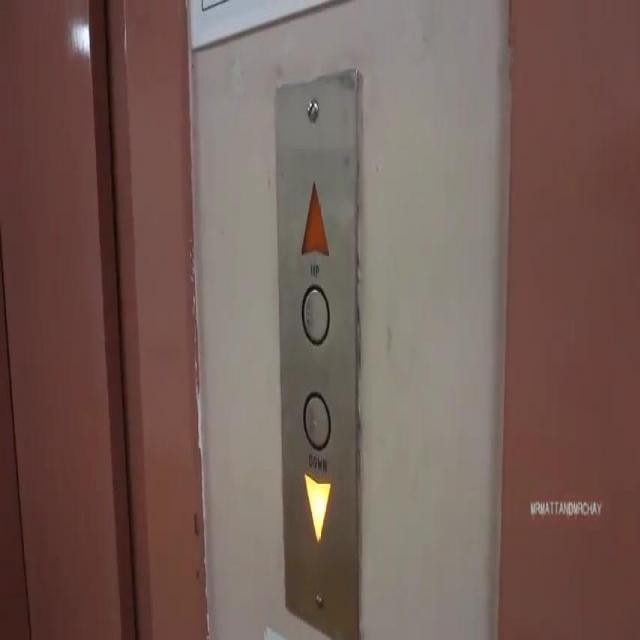empty: (300, 283, 331, 345), (302, 388, 332, 452)
